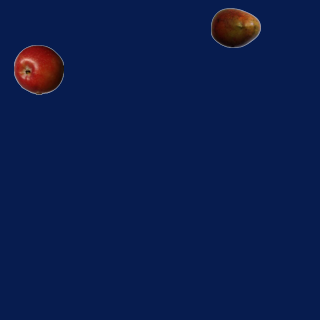Apple Braeburn: (13, 44, 63, 94)
Mango Red: (210, 2, 260, 52)
